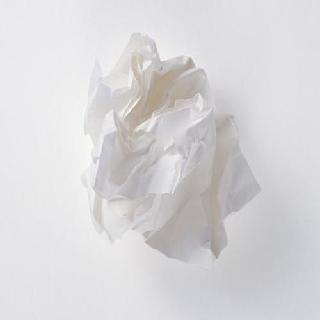8/可回收垃圾/纸: (80, 32, 262, 264)
